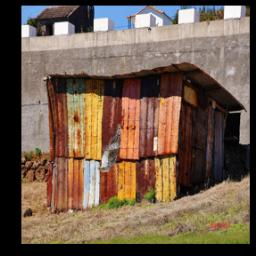Cuckoo: (98, 124, 122, 172)
